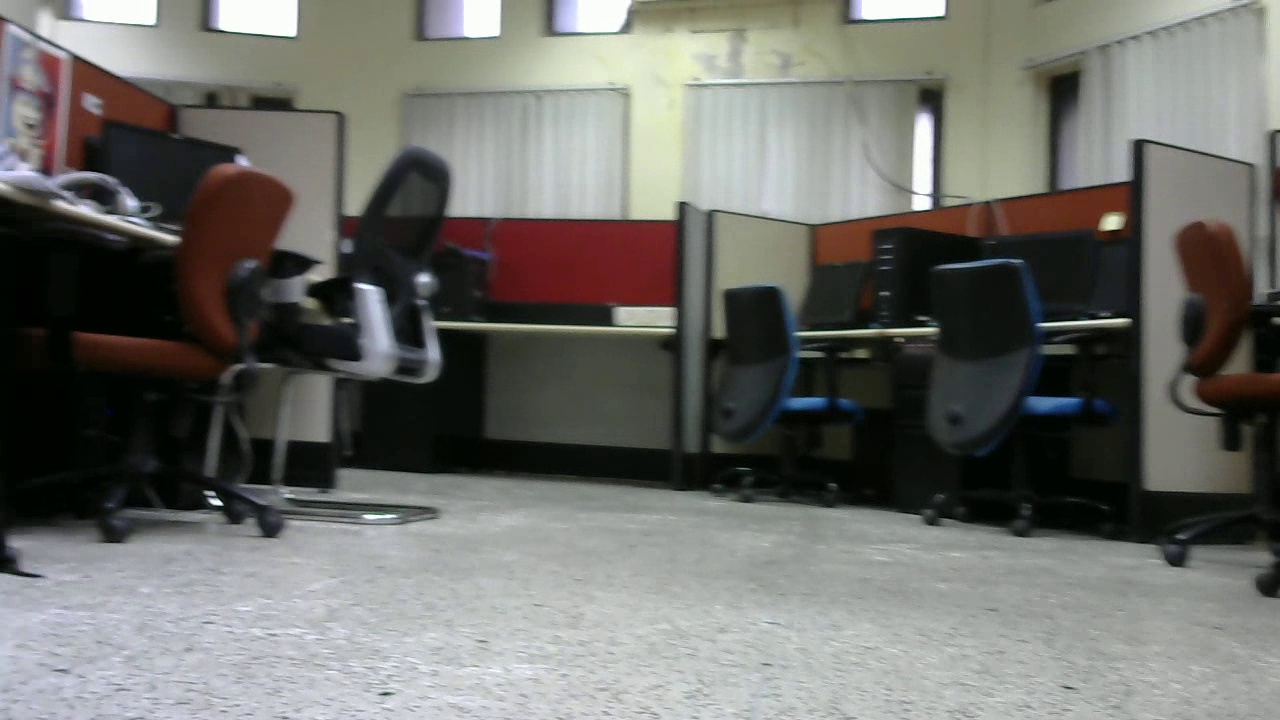chair: (84, 157, 294, 544), (909, 261, 1127, 544), (306, 142, 460, 526), (697, 277, 846, 505)
